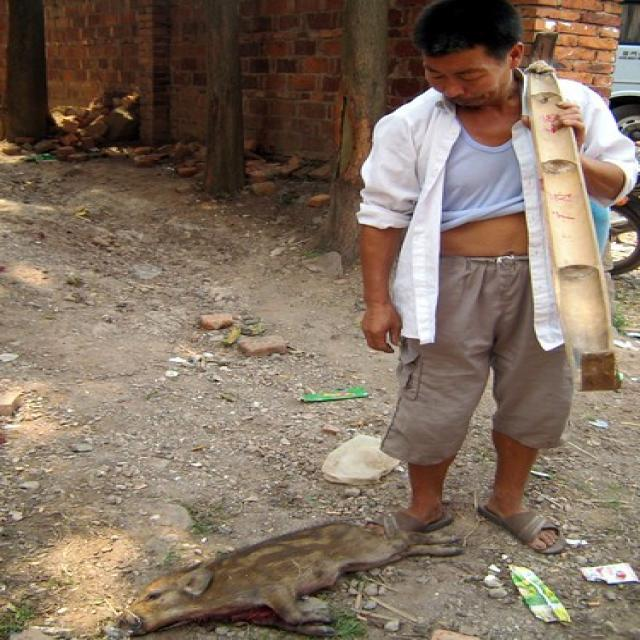boar: (38, 498, 474, 640)
